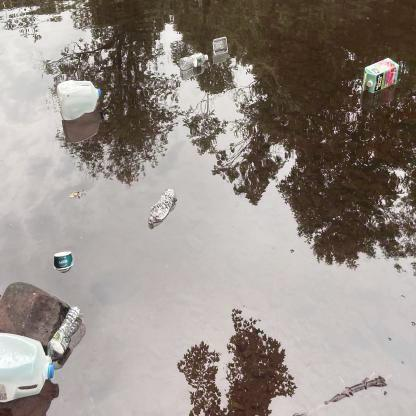Plastic: (0, 329, 59, 407), (42, 300, 88, 364), (55, 76, 103, 124), (146, 185, 178, 229), (177, 50, 209, 74), (210, 36, 228, 58)
Trash: (50, 246, 76, 276)
